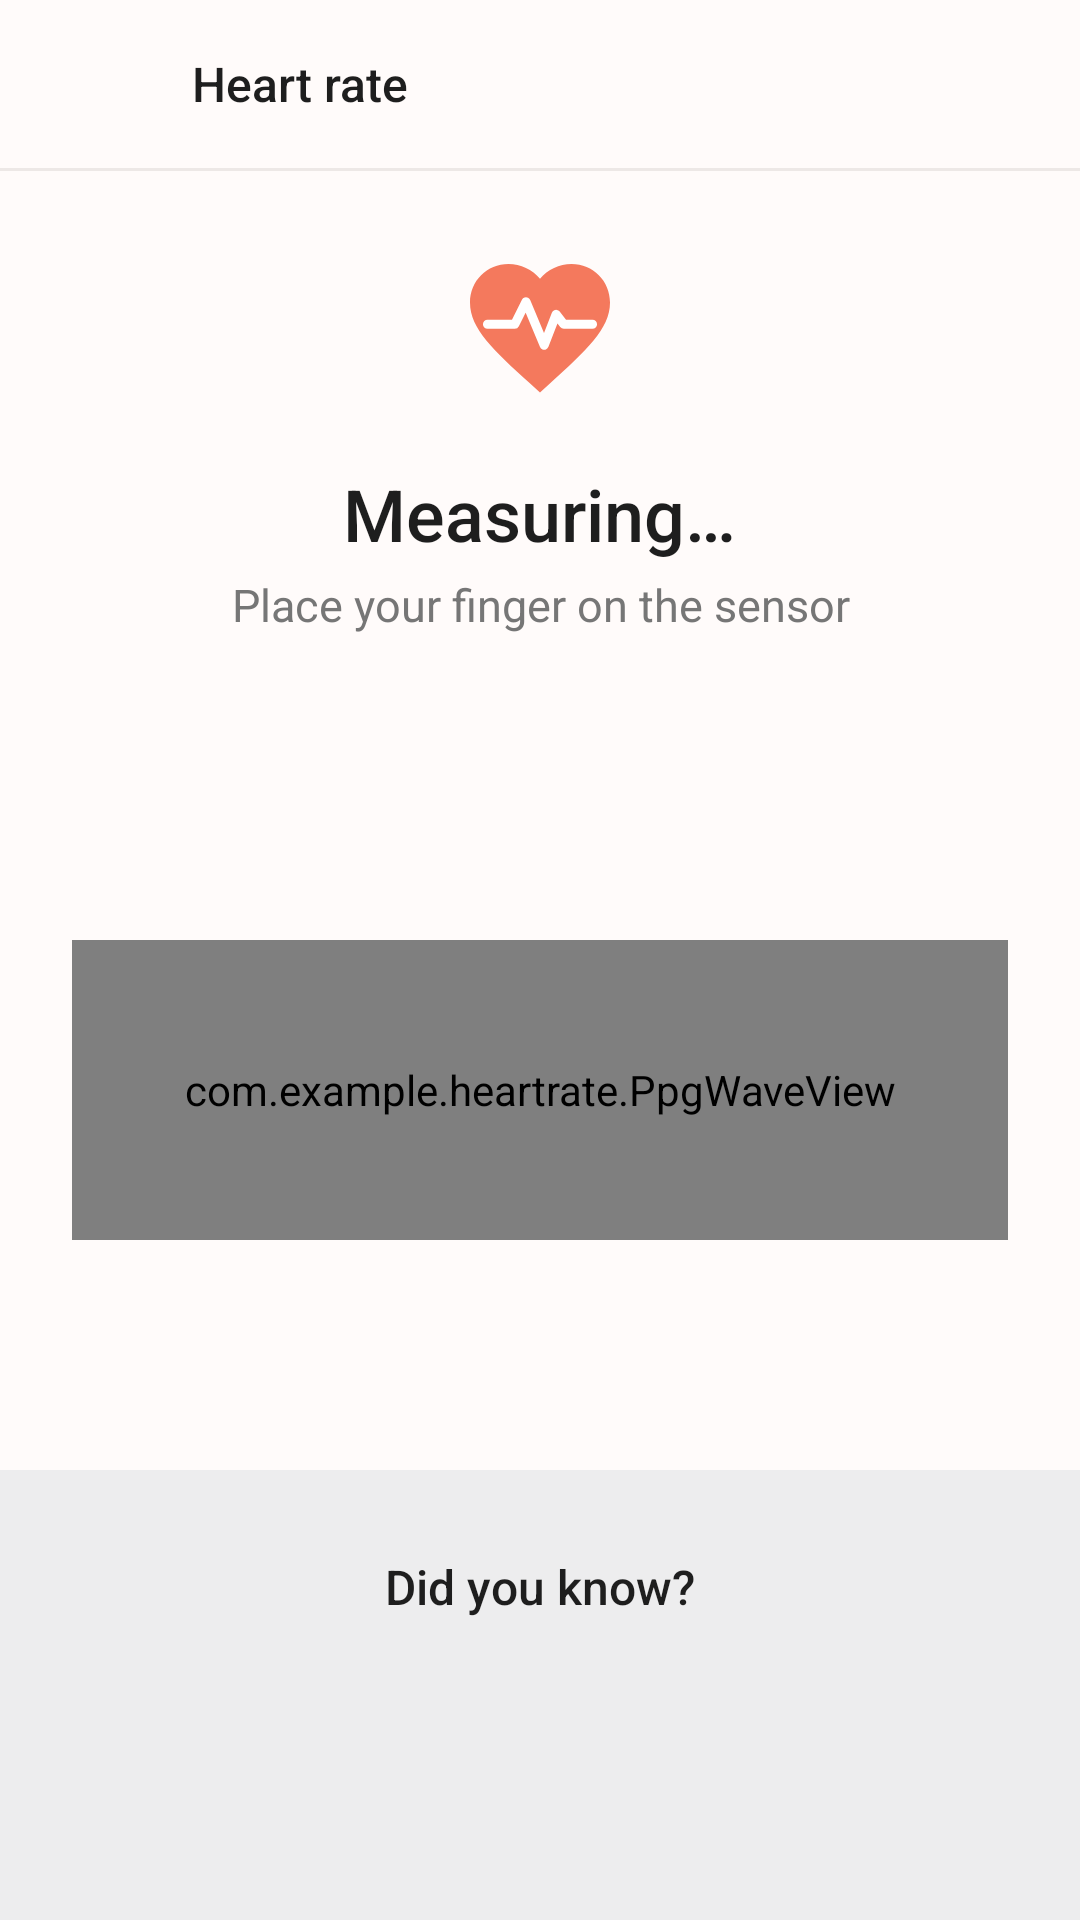

Named icons in this screenshot (1080w x 1920h) and their bounding boxes, (x1, y1, x2, y2):
heart pulse: (470, 264, 610, 392)
